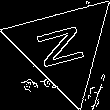N_E: (34, 20, 93, 73)
